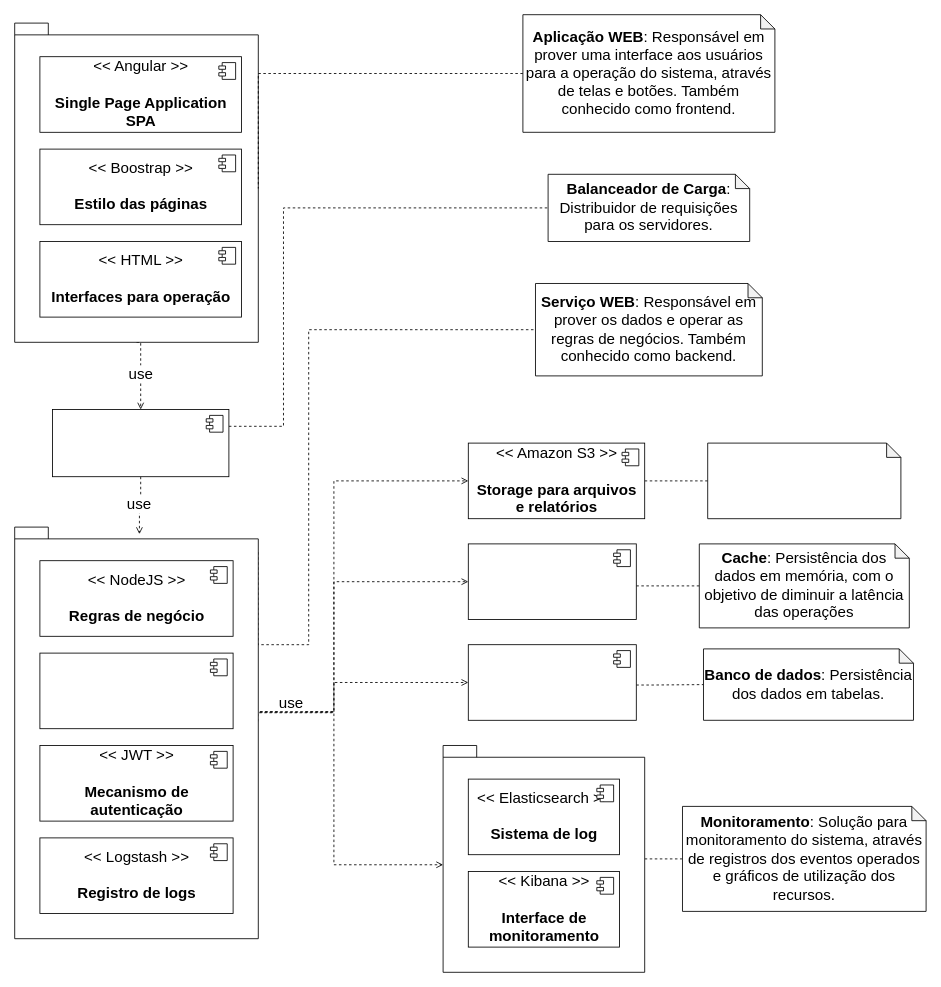
Some shapes in this 941 by 987 pixel diagram are drawn without their labels. Here are the shapes that lost their labels. From the top down, the box of each, then its label:
(52, 409, 229, 477): << NGINX >> Balanceador de carga
(707, 442, 901, 519): Storage : Armazenamento de arquivos e relatórios gerados
(467, 543, 636, 620): << Redis >> Banco de dados em cache
(39, 652, 233, 729): << Express >> API Rest
(467, 644, 636, 720): << MySQL >> Banco de dados relacional
